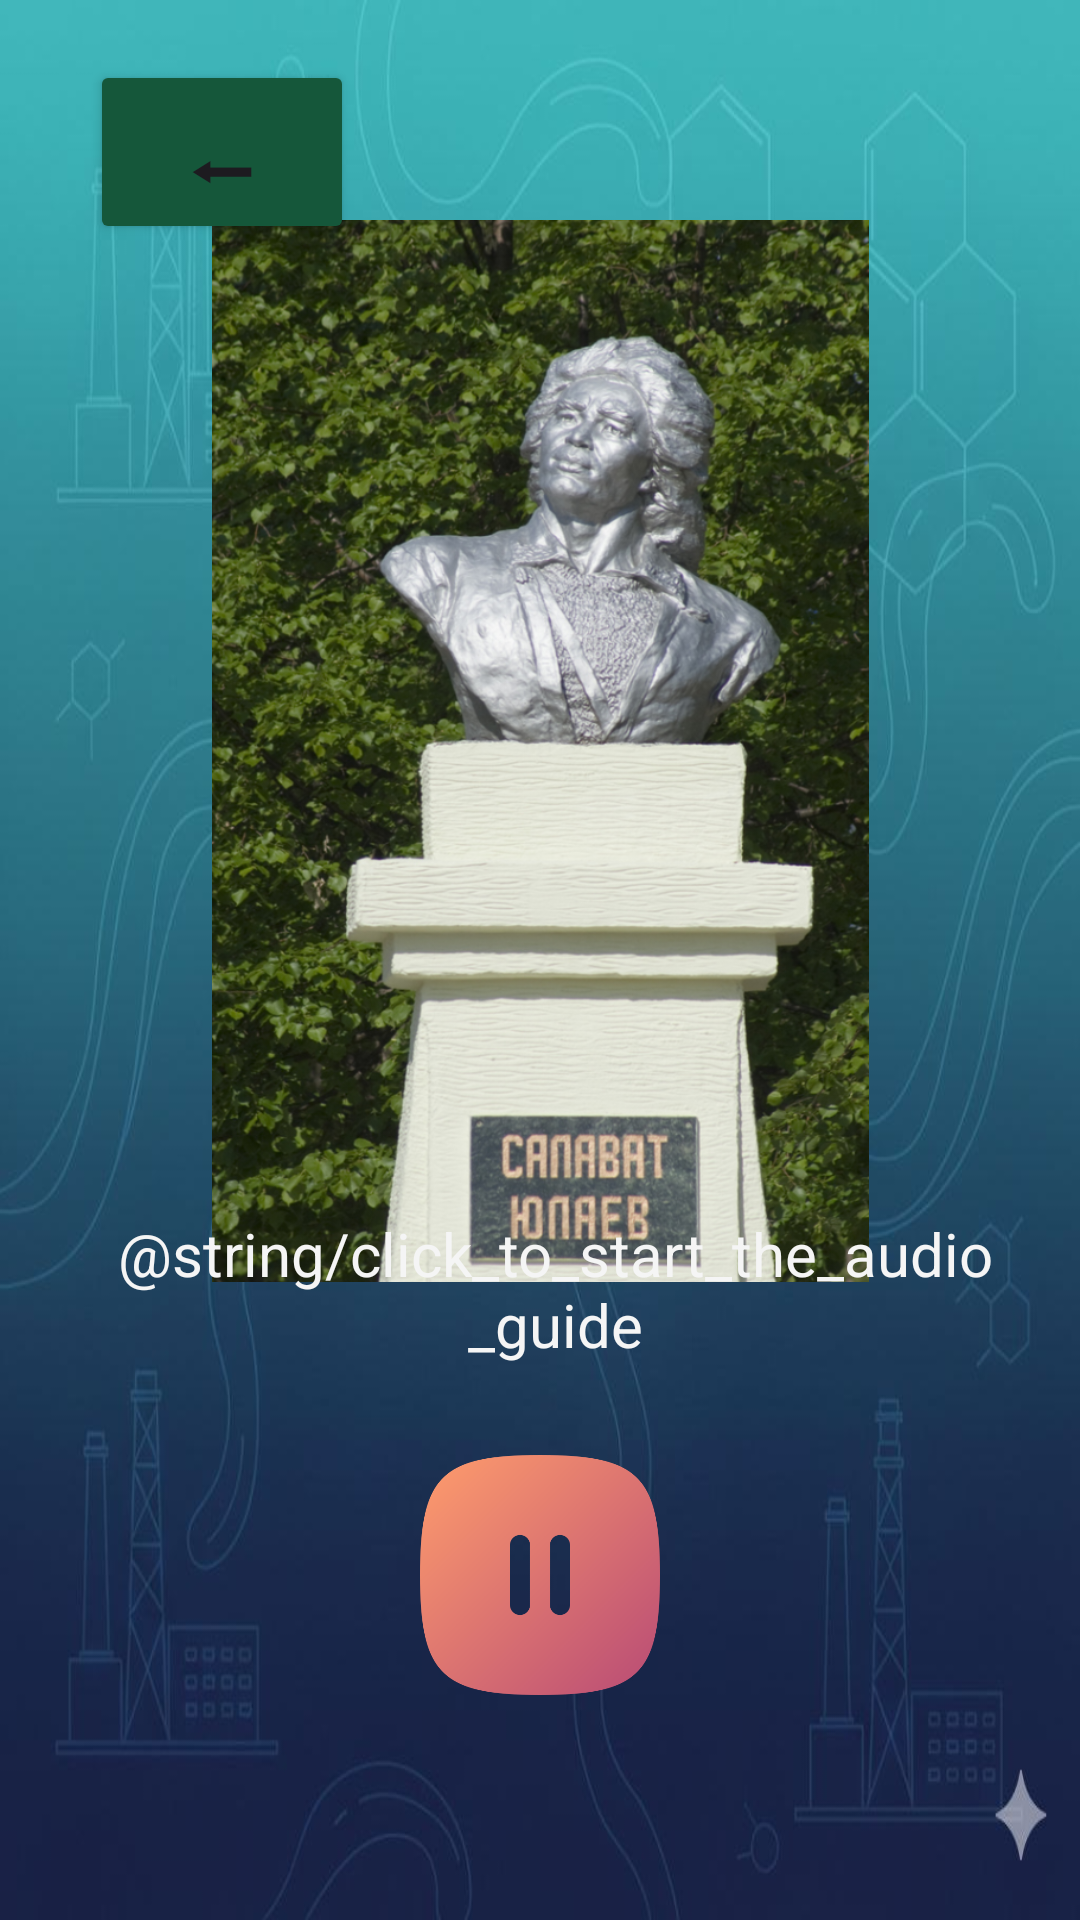

Named icons in this screenshot (1080px x 1920px) and their bounding boxes, (x1, y1, x2, y2):
pausebtn: (420, 1455, 660, 1695)
